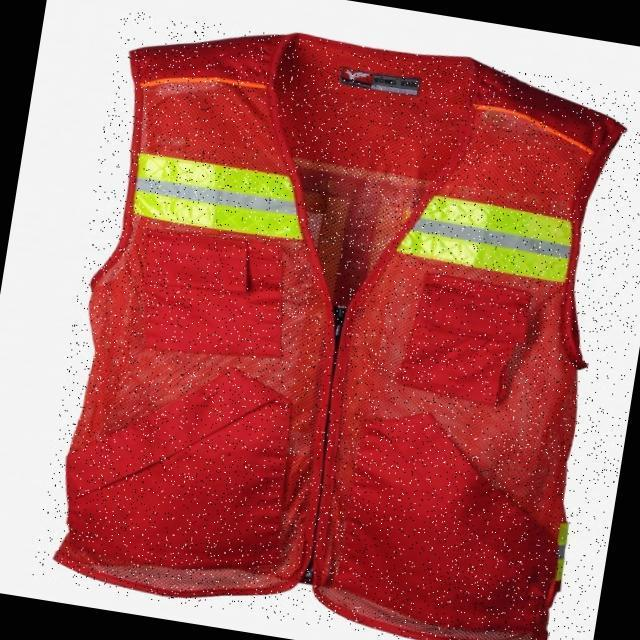vest: (32, 8, 640, 640)
